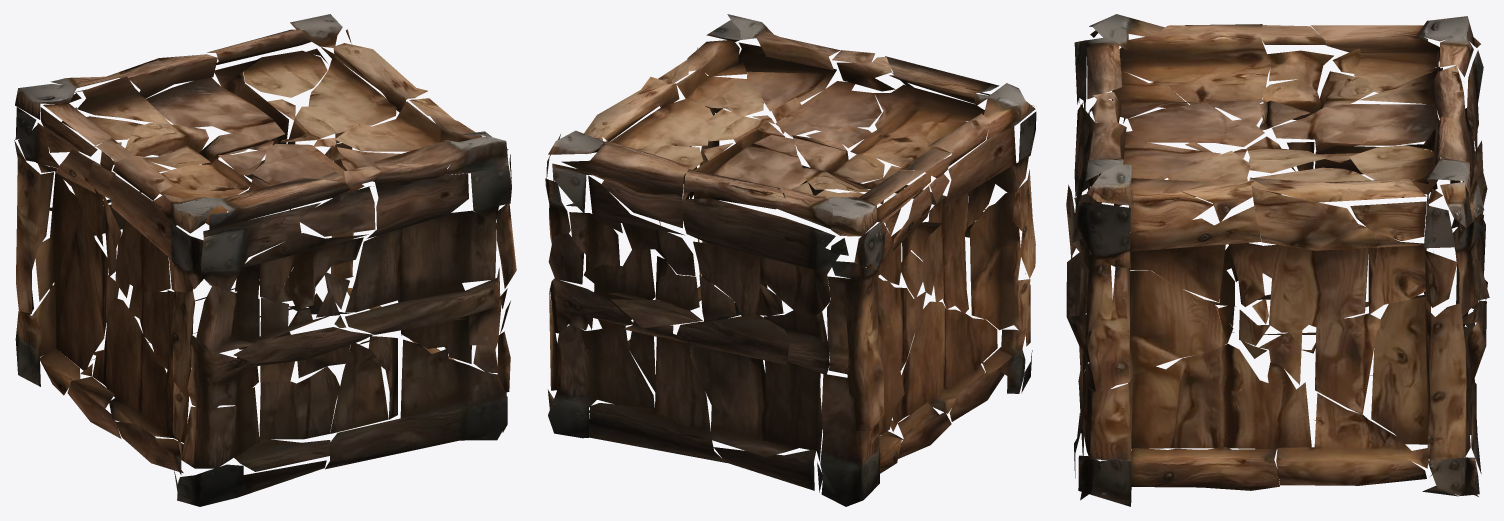
Rendered from crate.glb.
3 renders of one model, left to right at view 1: azimuth 30°, elevation 25°; view 2: azimuth 150°, elevation 25°; view 3: azimuth 270°, elevation 25°, orthographic. The views are drawn at different scales.
Visible parts, largest first — view 1: tripo_node_fd991ff8-c8ed-4c1e-aa6b-f81ecc5d2526; view 2: tripo_node_fd991ff8-c8ed-4c1e-aa6b-f81ecc5d2526; view 3: tripo_node_fd991ff8-c8ed-4c1e-aa6b-f81ecc5d2526.
Part boxes in pixels (box(x1,y1,x2,y2)): tripo_node_fd991ff8-c8ed-4c1e-aa6b-f81ecc5d2526: box(14, 14, 516, 506); tripo_node_fd991ff8-c8ed-4c1e-aa6b-f81ecc5d2526: box(545, 14, 1036, 506); tripo_node_fd991ff8-c8ed-4c1e-aa6b-f81ecc5d2526: box(1066, 14, 1489, 506).
Bounding box in the file's own units: 0.9841 × 0.8549 × 1.
Materials: 1 (1 with a texture image).
